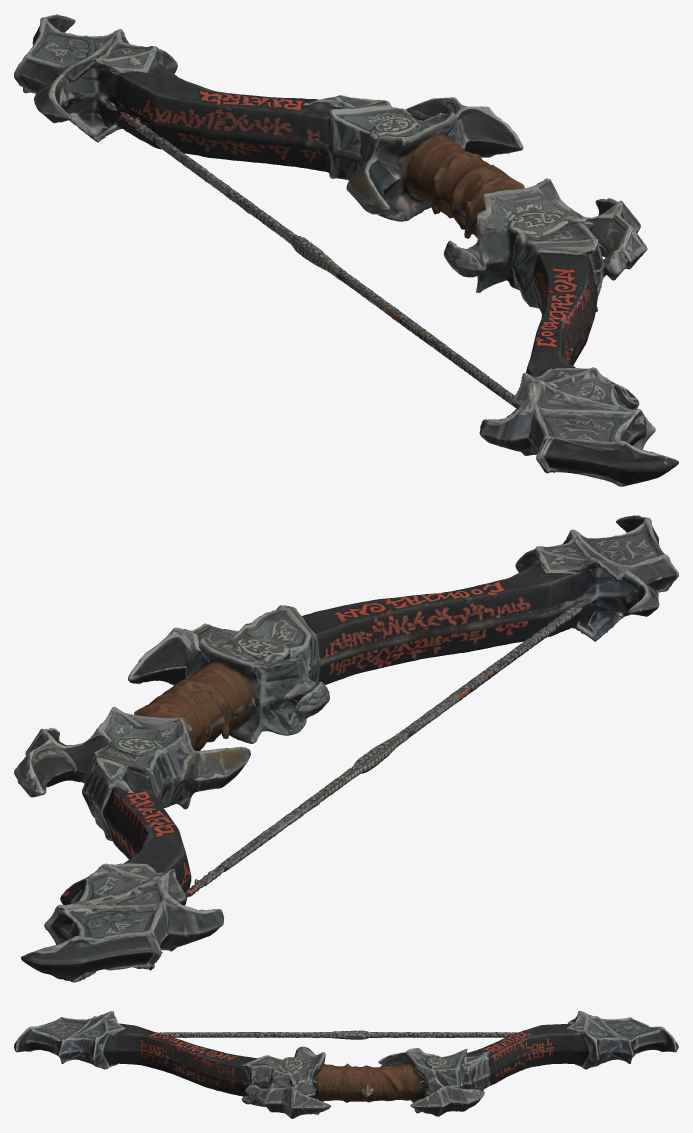
The model's file is DiabloBow.glb.
3 views of the same model, one above another, from view 1: azimuth 30°, elevation 25°; view 2: azimuth 150°, elevation 25°; view 3: azimuth 270°, elevation 25° (orthographic). The views are drawn at different scales.
Visible parts, largest first — view 1: texture_mapping; view 2: texture_mapping; view 3: texture_mapping.
Boxes of the visible parts, x1,y1,x2,y2 form: texture_mapping: (14,14,678,486); texture_mapping: (14,515,678,982); texture_mapping: (14,1011,678,1118).
Size of the model in its own units: 0.315 by 0.0831 by 0.9914.
1 material, 1 textured.
